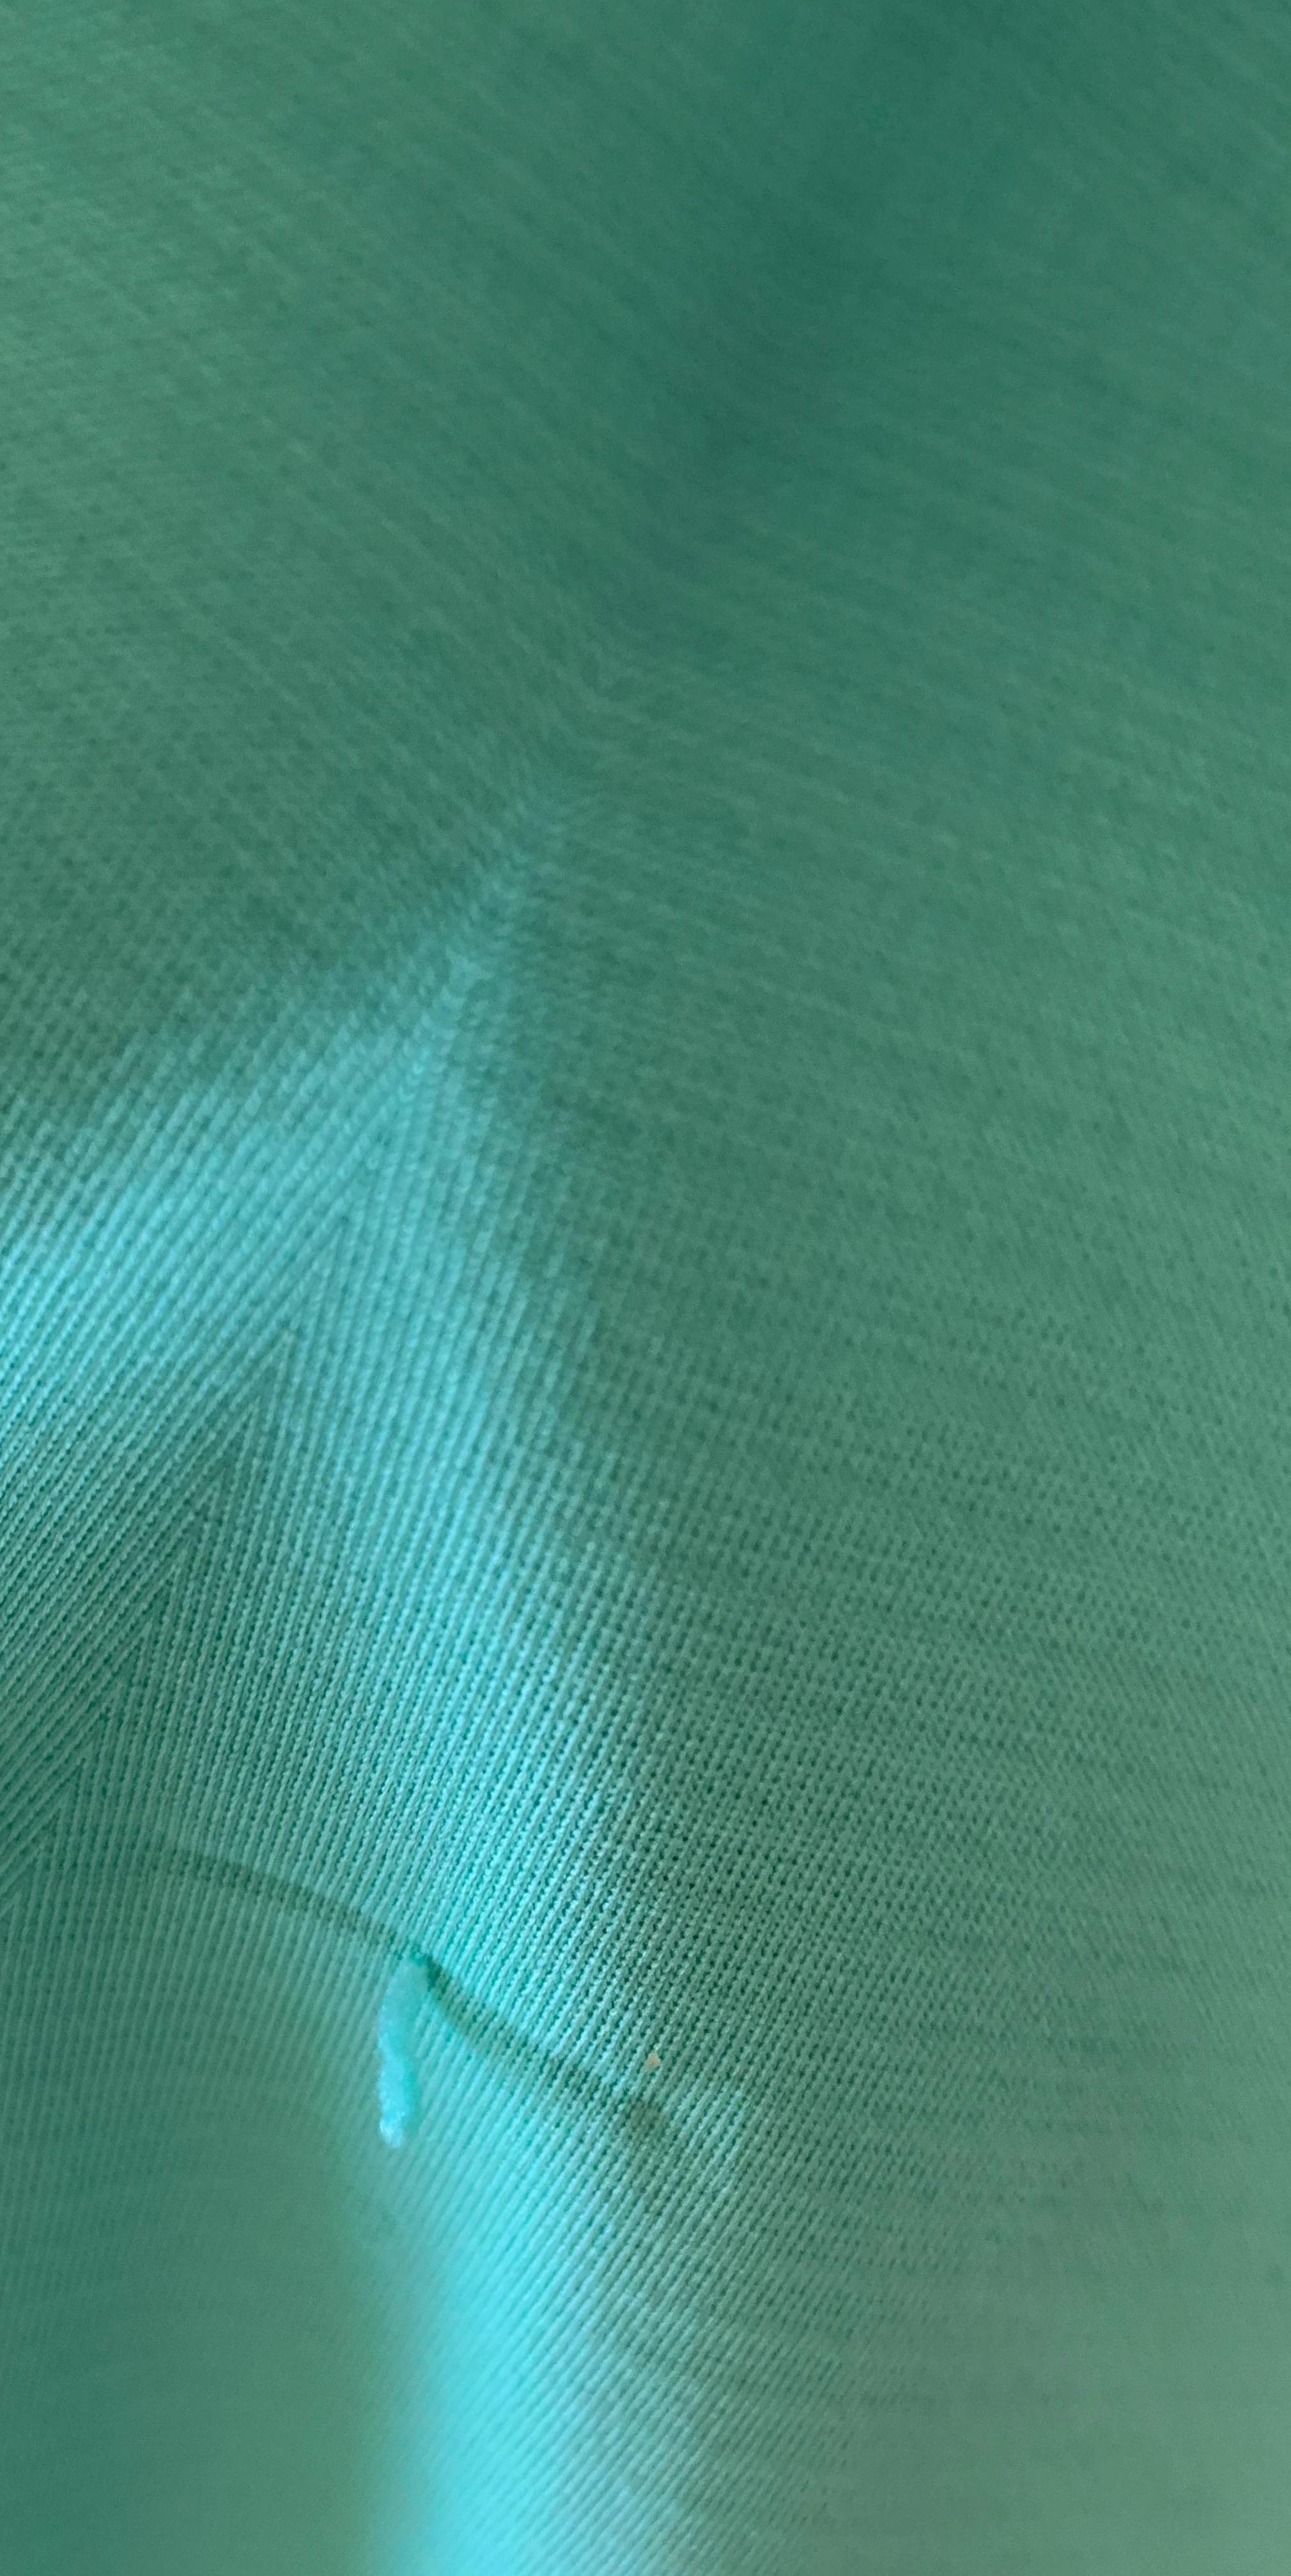snag: (273, 1855, 499, 2178)
